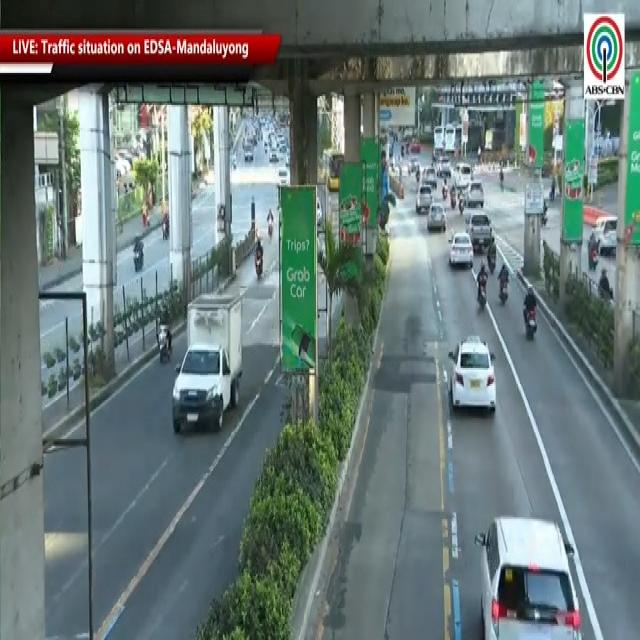car: (474, 505, 581, 640), (445, 327, 499, 421), (446, 224, 477, 279), (465, 206, 490, 252), (414, 182, 434, 217), (427, 206, 443, 242)
motorbike: (156, 290, 172, 368), (523, 281, 539, 347), (475, 256, 491, 313), (129, 233, 149, 278), (498, 258, 510, 313), (253, 226, 264, 281), (487, 228, 499, 276)
truck: (171, 290, 245, 433)
